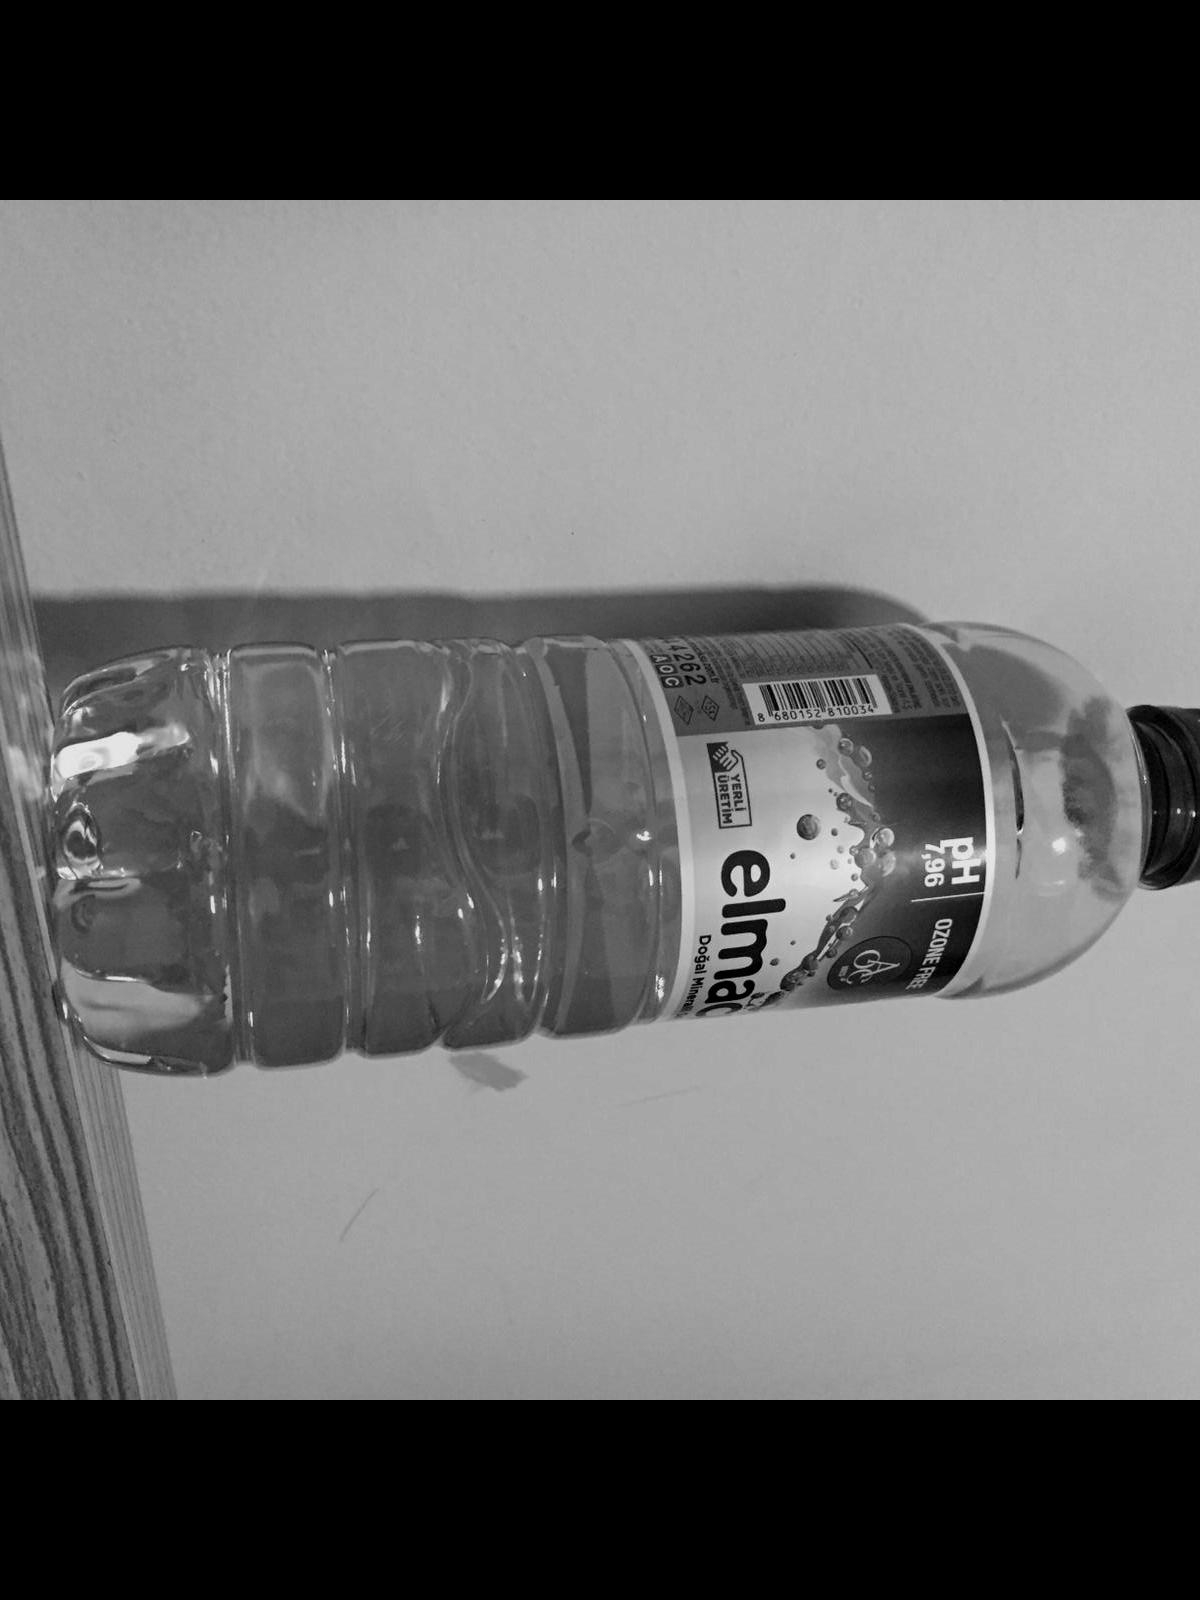bottle: (44, 609, 1200, 1082)
